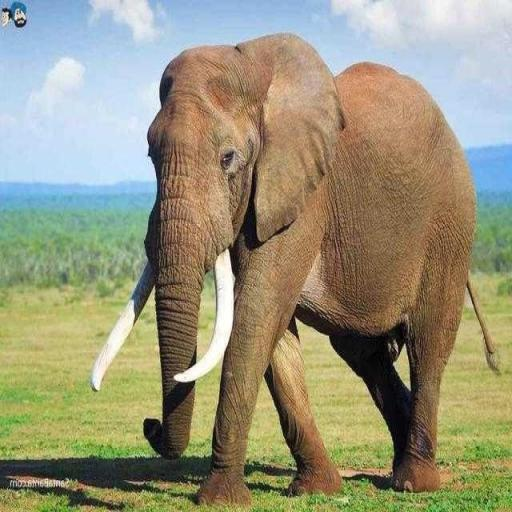Elephant: (90, 31, 500, 507)
